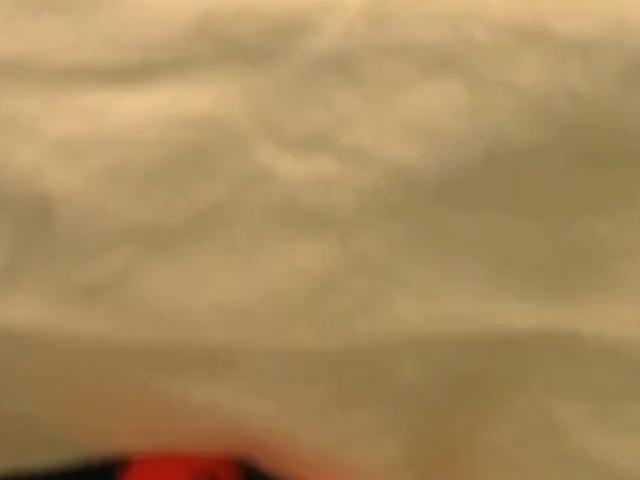Ball: (115, 455, 243, 479)
